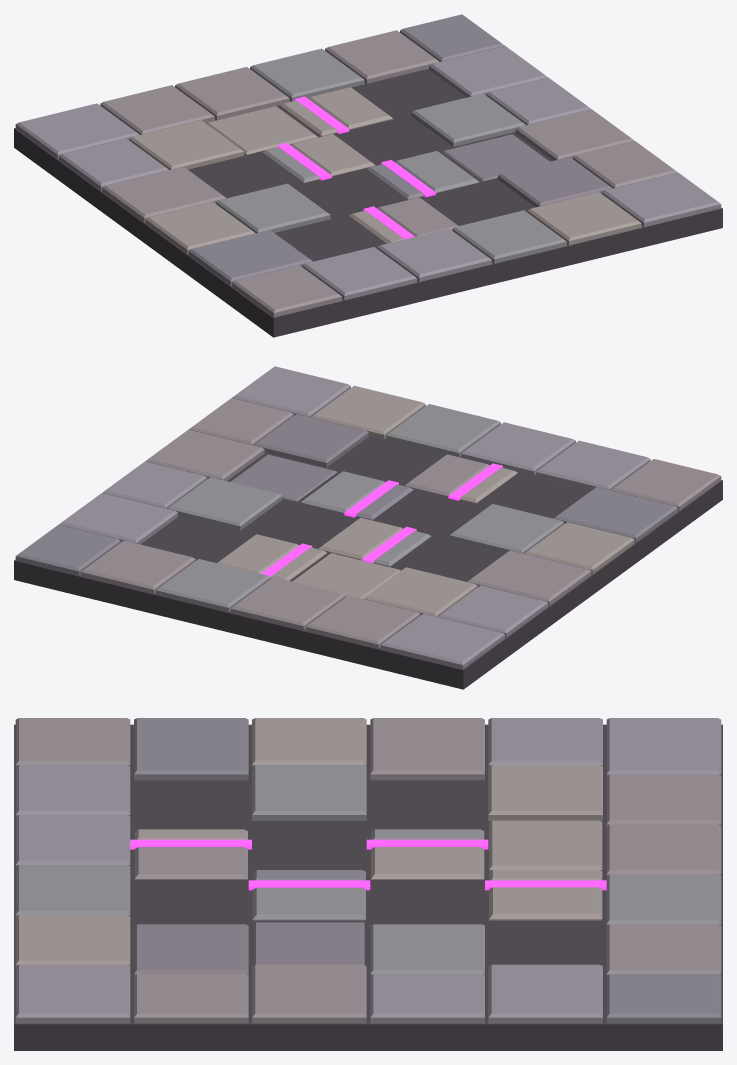
Rendered from 12a-cracked-road.fbx.
3 renders of one model, top to bottom at view 1: azimuth 30°, elevation 25°; view 2: azimuth 150°, elevation 25°; view 3: azimuth 270°, elevation 25°, orthographic. The views are drawn at different scales.
Parts seen in each view (by area): view 1: 12a-cracked-road; view 2: 12a-cracked-road; view 3: 12a-cracked-road.
Boxes of the visible parts, x1=… form: 12a-cracked-road: x1=14, y1=14, x2=722, y2=337; 12a-cracked-road: x1=14, y1=366, x2=722, y2=689; 12a-cracked-road: x1=14, y1=718, x2=722, y2=1050.
Size of the model in its own units: 400 by 22 by 400.
